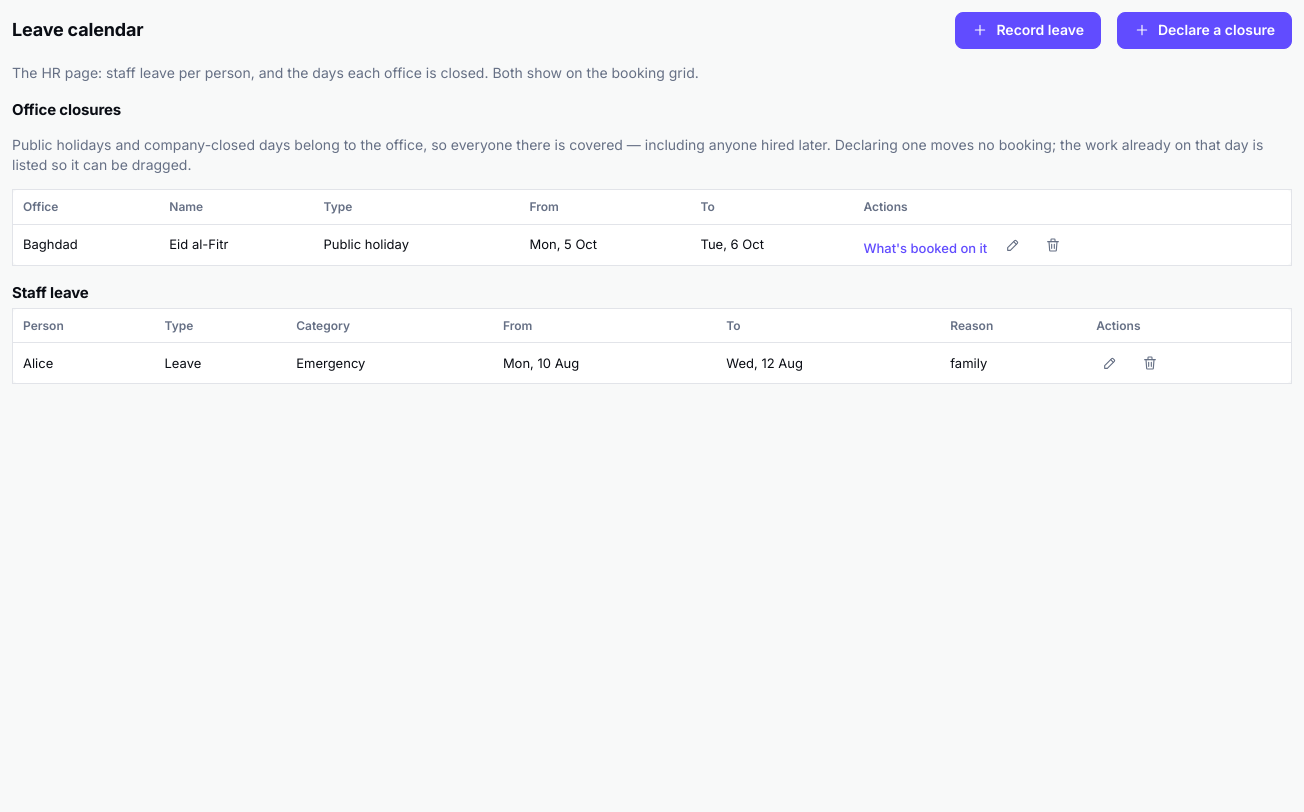
LeavePage — office closures (ADR-0079) › shows the stranded work for a closure, with owner and a link to the schedule week
Click the button with test id "closure-stranded-c1" at coordinates (925, 249), box top-left (863, 241), bottom-right (987, 256)
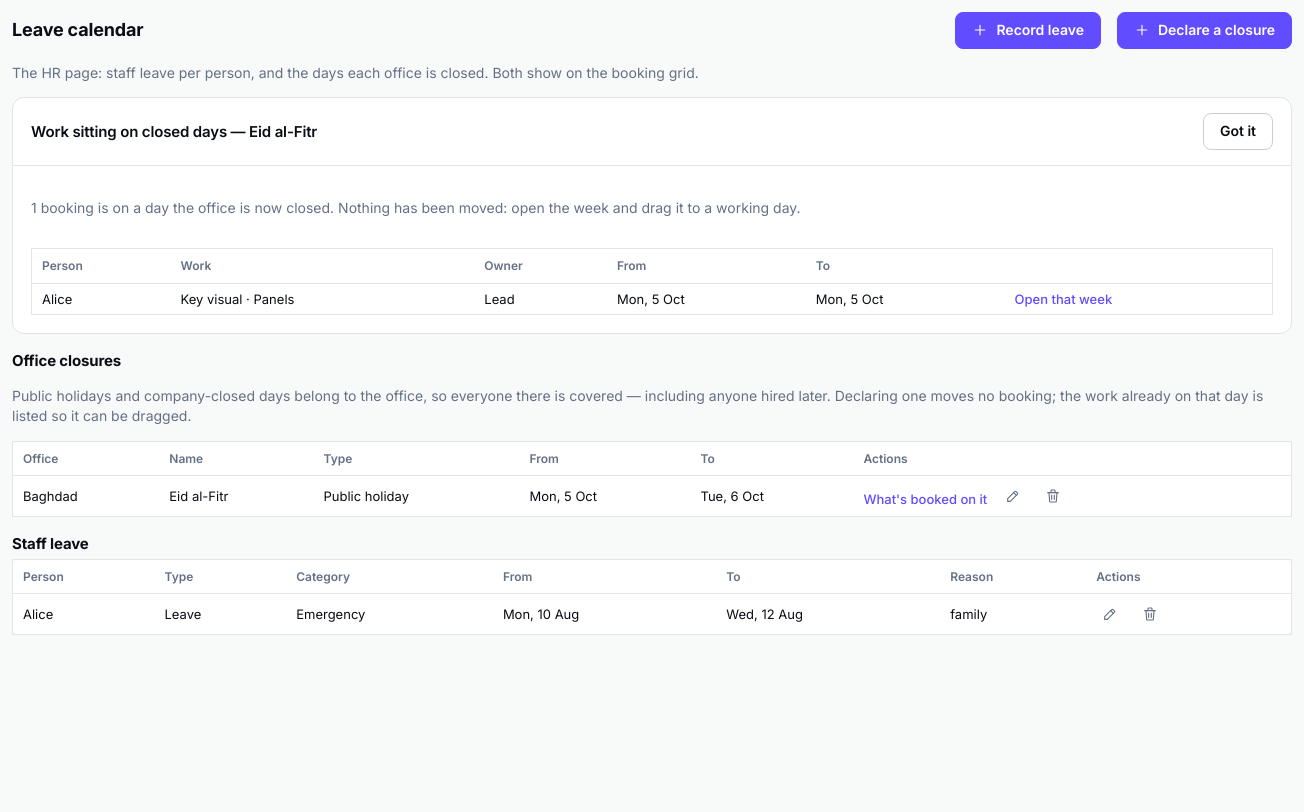
Expected: the row with test id "stranded-b1" shows "Alice", top-left (42, 291), bottom-right (72, 307)
Expected: the row with test id "stranded-b1" shows "Key visual", top-left (180, 291), bottom-right (294, 307)
Expected: the row with test id "stranded-b1" shows "Lead", top-left (484, 291), bottom-right (515, 307)
